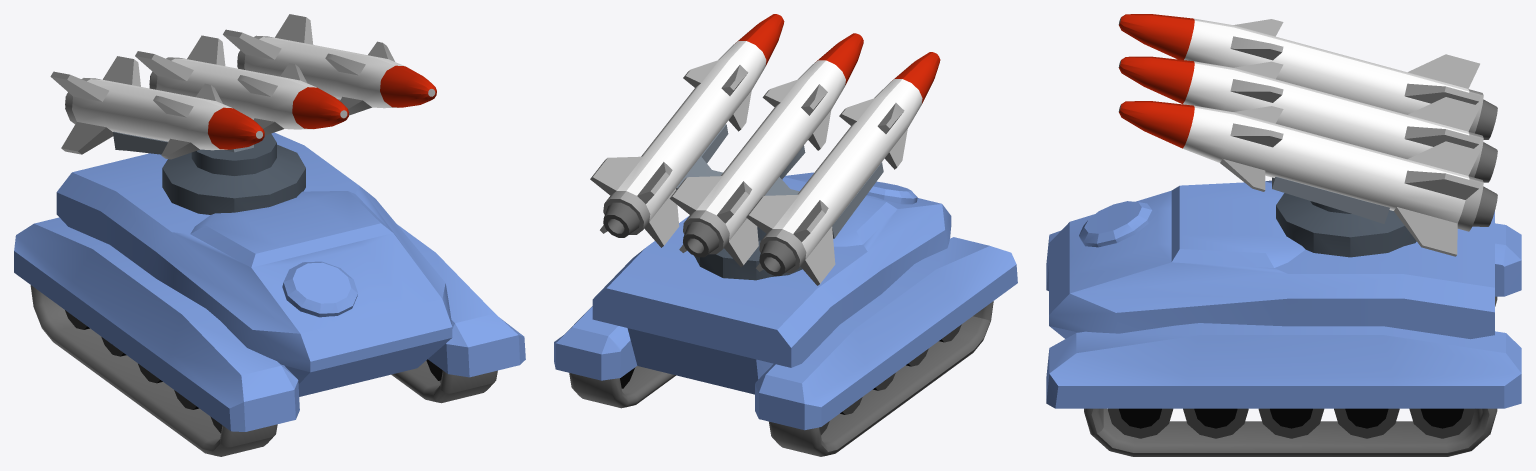
Rendered from Missle_Vehicles3.fbx.
The picture shows the model from 3 angles, left to right: view 1: azimuth 30°, elevation 25°; view 2: azimuth 150°, elevation 25°; view 3: azimuth 270°, elevation 25°; orthographic projection. The views are drawn at different scales.
Visible parts, largest first — view 1: Body, Missile3, Missile1, Missile2, Top, Tie_R3, Tie_R4; view 2: Body, Missile3, Missile1, Missile2, Tie_R3, Top, Tie_R4; view 3: Body, Missile1, Tie_R4, Missile2, Missile3, Top.
Boxes of the visible parts, left/top/right/bottom form: Body: left=14, top=132, right=525, bottom=431; Missile3: left=50, top=56, right=264, bottom=159; Missile1: left=223, top=14, right=436, bottom=115; Missile2: left=135, top=35, right=349, bottom=135; Top: left=113, top=99, right=340, bottom=214; Tie_R3: left=30, top=285, right=277, bottom=456; Tie_R4: left=391, top=359, right=497, bottom=403; Body: left=554, top=172, right=1017, bottom=430; Missile3: left=746, top=52, right=940, bottom=285; Missile1: left=590, top=14, right=784, bottom=247; Missile2: left=669, top=33, right=863, bottom=266; Tie_R3: left=769, top=301, right=993, bottom=456; Top: left=676, top=124, right=883, bottom=280; Tie_R4: left=569, top=366, right=675, bottom=408; Body: left=1046, top=180, right=1521, bottom=408; Missile1: left=1118, top=101, right=1497, bottom=256; Tie_R4: left=1084, top=408, right=1497, bottom=456; Missile2: left=1118, top=56, right=1497, bottom=182; Missile3: left=1118, top=14, right=1497, bottom=139; Top: left=1272, top=176, right=1416, bottom=257.
Bounding box in the file's own units: 203 × 211 × 274.
